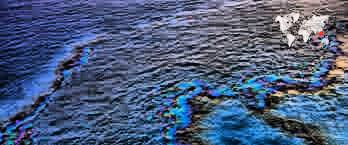rainbow: (0, 48, 88, 145), (239, 59, 348, 110), (161, 80, 236, 144)
